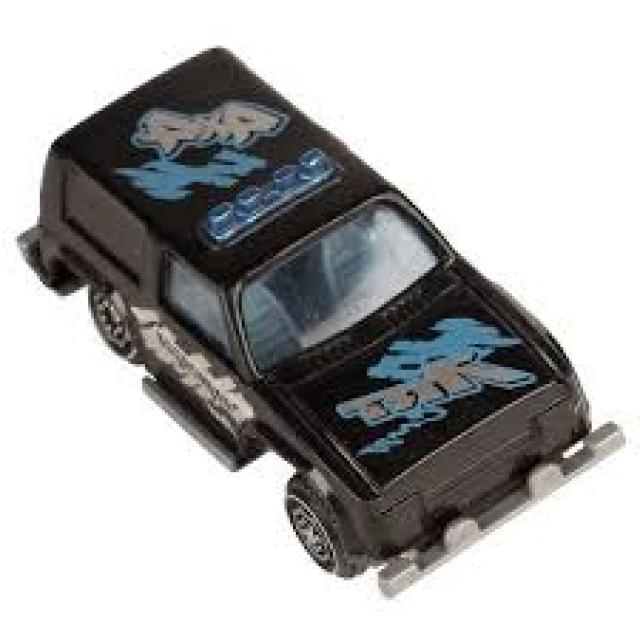Car: (17, 43, 629, 597)
